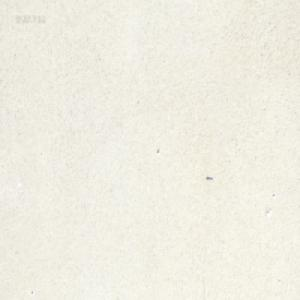Nail: (206, 175, 213, 180)
